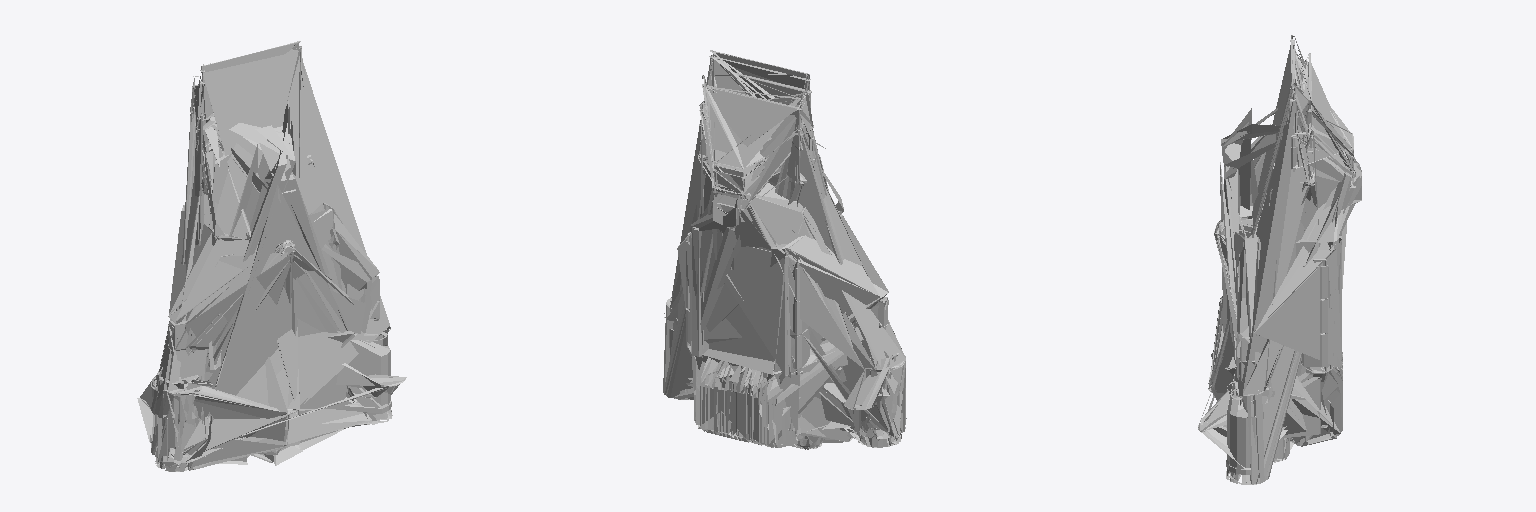
Rendered from Rebel Dropship.obj.
3 views of the same model, side by side, from view 1: azimuth 30°, elevation 25°; view 2: azimuth 150°, elevation 25°; view 3: azimuth 270°, elevation 25° (orthographic).
Visible parts, largest first — view 1: Main_Hull, Main_Hull2; view 2: Main_Hull, Main_Hull_Interior, Main_Hull2; view 3: Main_Hull, Main_Hull_Interior.
Part boxes in pixels (bbox=[...]): Main_Hull: bbox=[137, 41, 406, 471]; Main_Hull2: bbox=[336, 340, 391, 413]; Main_Hull: bbox=[663, 50, 906, 449]; Main_Hull_Interior: bbox=[669, 232, 890, 435]; Main_Hull2: bbox=[688, 248, 854, 430]; Main_Hull: bbox=[1198, 35, 1361, 484]; Main_Hull_Interior: bbox=[1226, 204, 1327, 474].
Bounding box in the file's own units: 36.64 × 58.54 × 22.14.